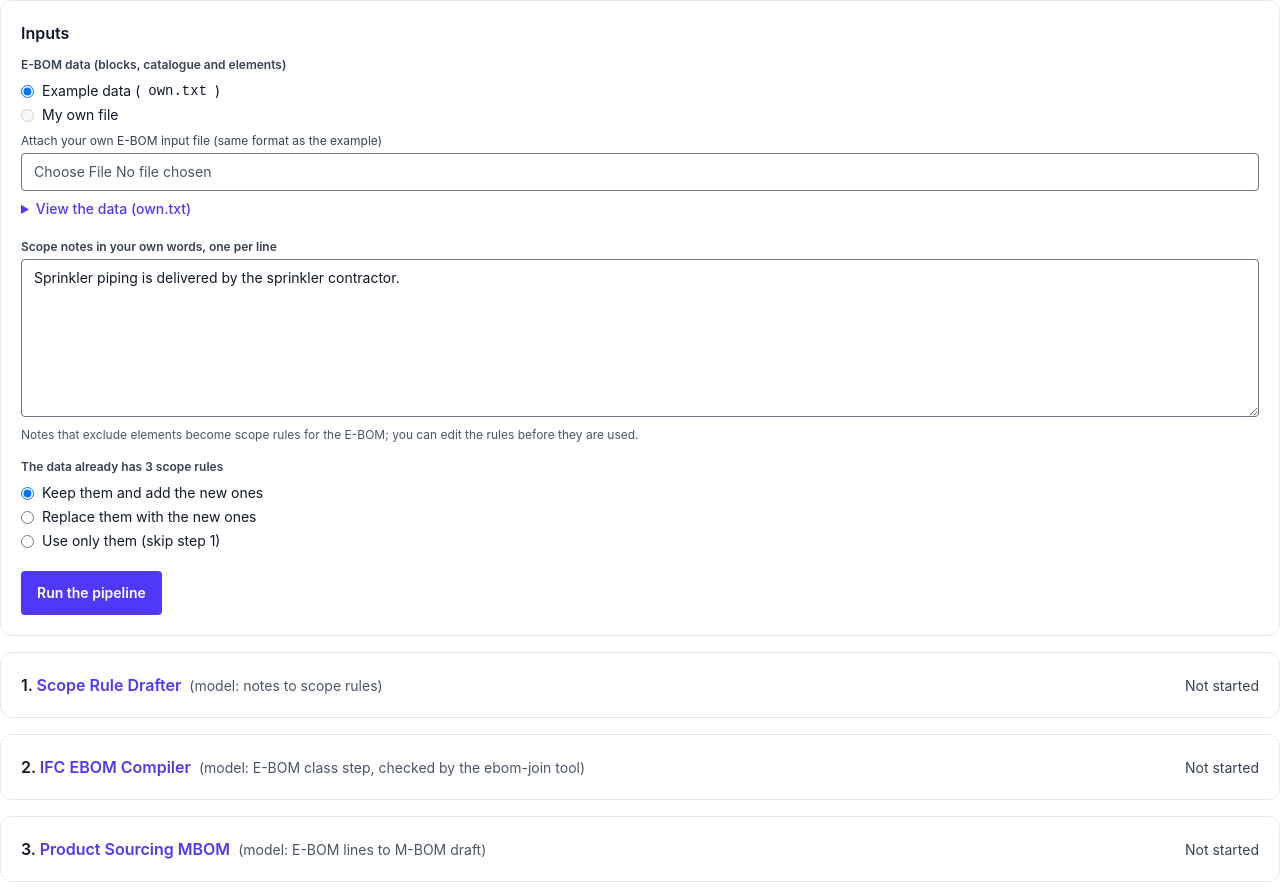
Test: PipelineRunner › data with its own rules: the choice appears, and "use only them" skips step 1
Click the radio button named "pipeline-rules" at (28, 541), box 21,534 -> 34,548
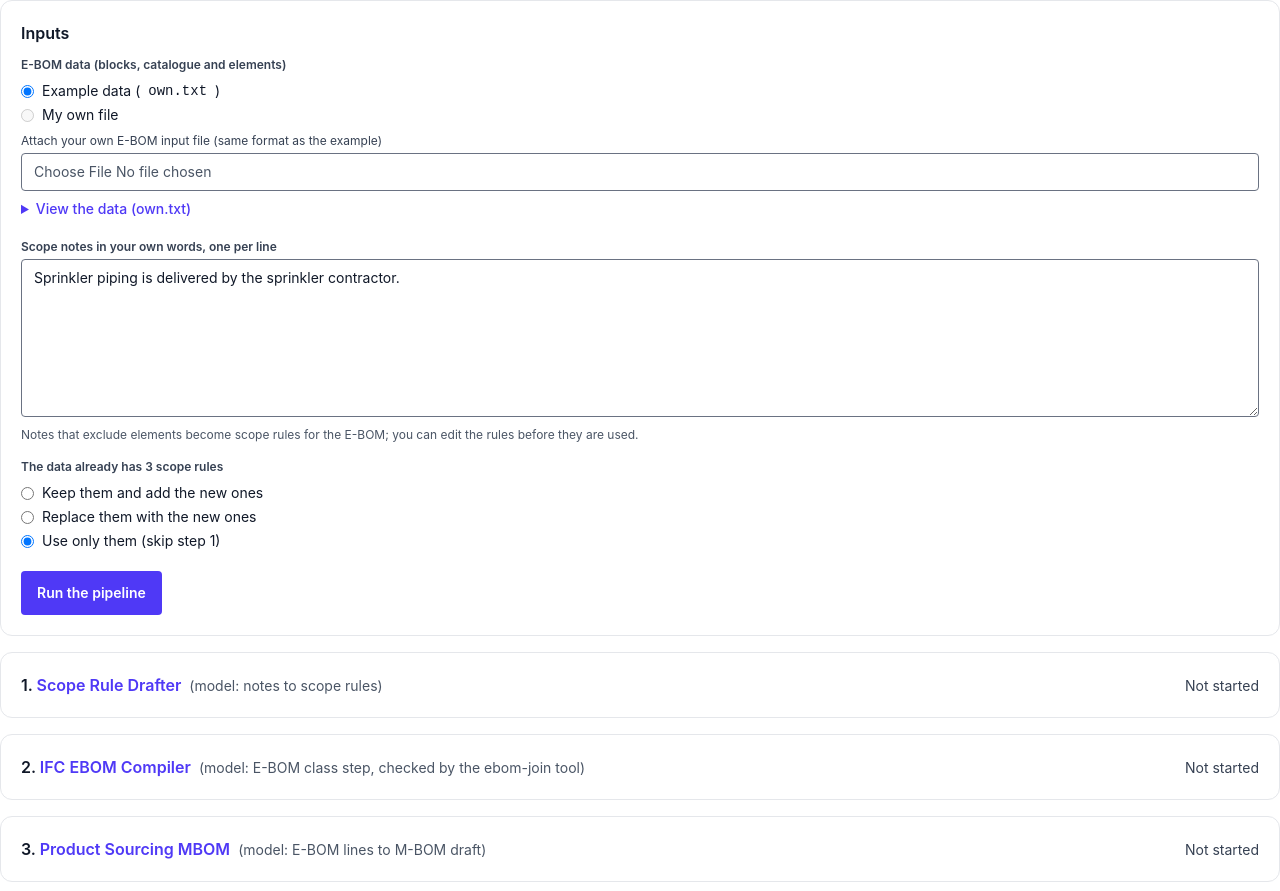
Click the button "Run the pipeline" at (91, 593), box 21,571 -> 162,615
Wait 4400 ms
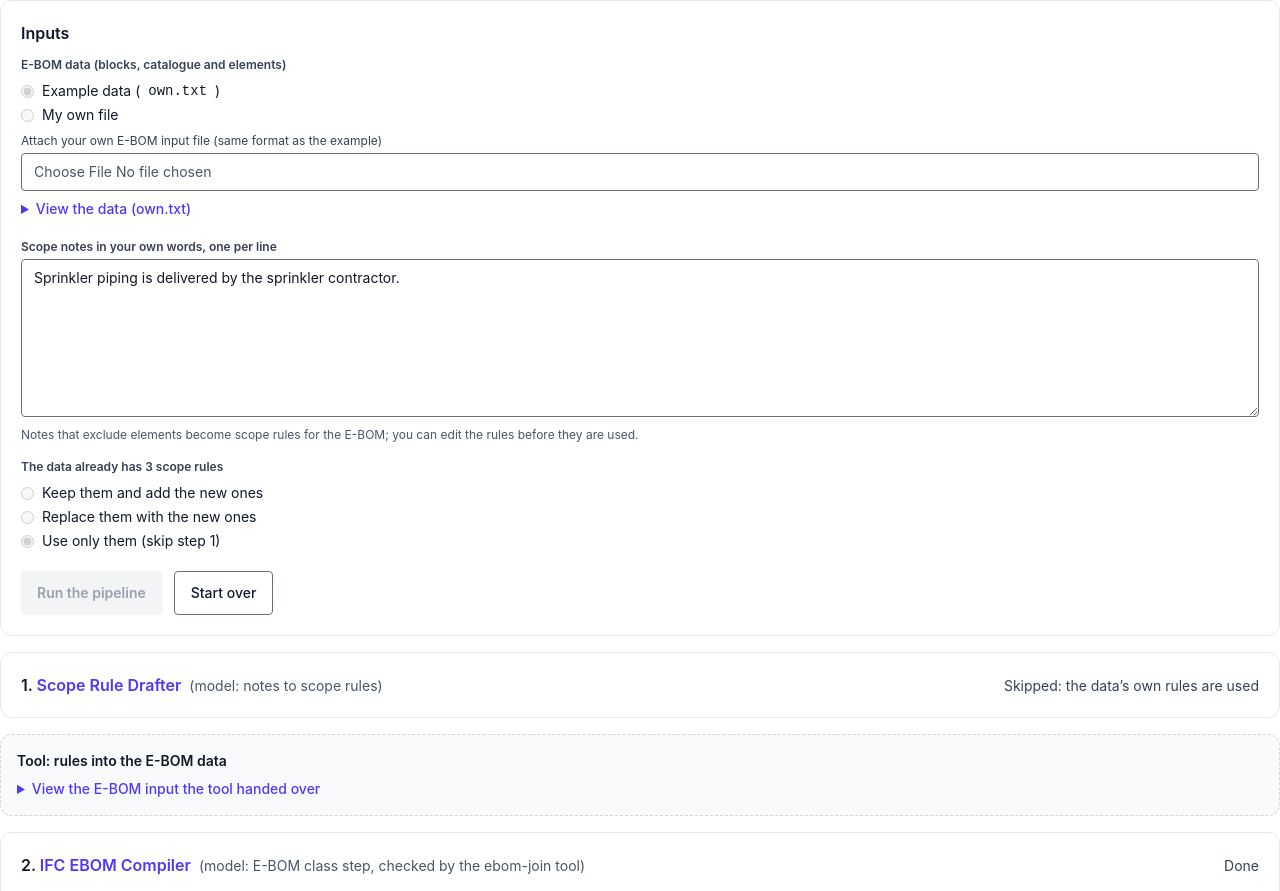
expect the text with test id "step-0-status" reads "Skipped: the data’s own rules are used": met, box 1004,677 -> 1259,694
